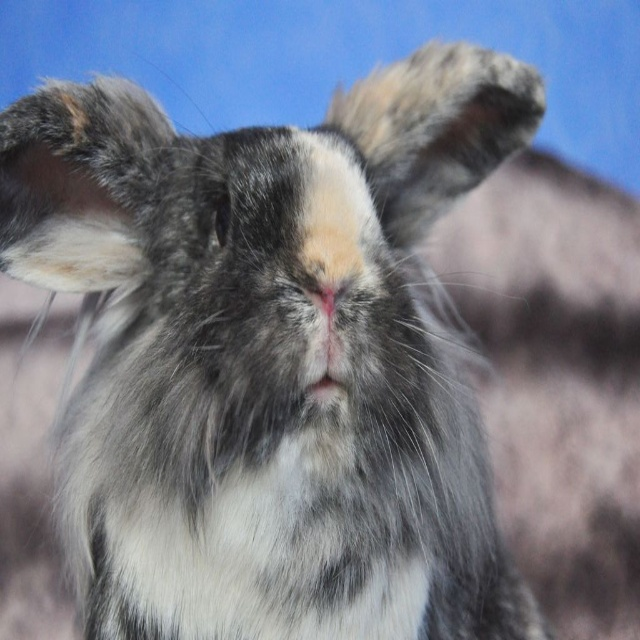Rabbit: (0, 33, 554, 639)
